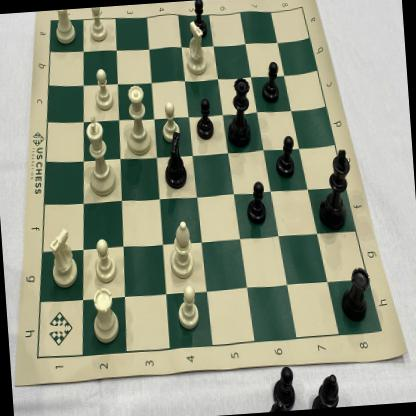bishop: (164, 216, 197, 281)
king: (310, 143, 356, 234), (81, 111, 120, 198)
knight: (42, 224, 80, 290), (159, 130, 190, 191), (179, 19, 211, 77)
pawn: (174, 281, 202, 334), (91, 236, 119, 286), (244, 176, 271, 226), (271, 132, 297, 183), (156, 99, 184, 146), (256, 59, 284, 105), (92, 66, 116, 116), (192, 96, 216, 143), (84, 6, 110, 46), (188, 0, 212, 40)
queen: (223, 74, 255, 152), (121, 82, 154, 156)
rook: (336, 263, 374, 324), (88, 286, 122, 347), (50, 9, 79, 46)
